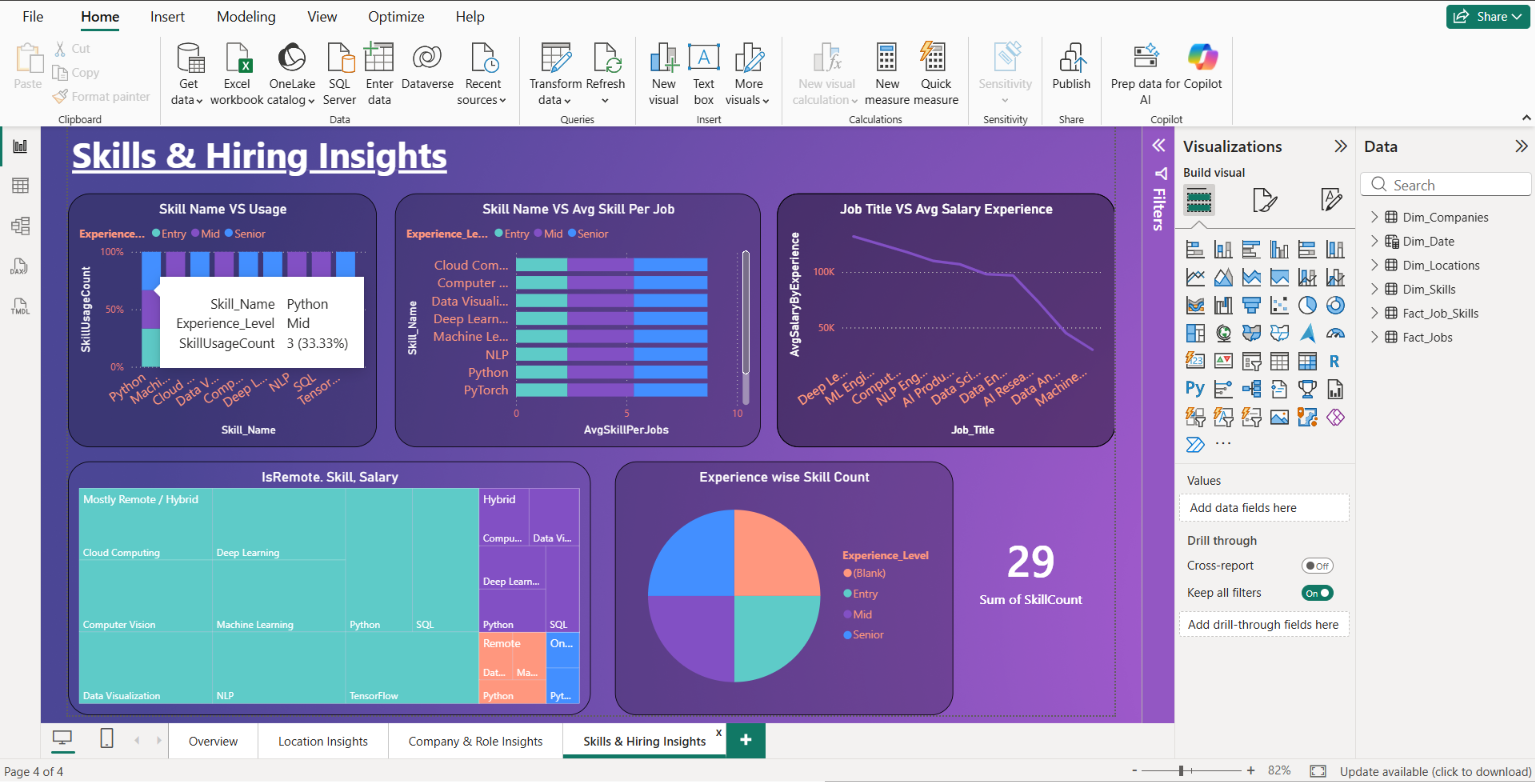

This screenshot's page, from the dashboard's own definition file:
{"tool":"powerbi","page":{"name":"Skills & Hiring Insights","canvas":[1280,720],"ordinal":3},"visuals":[{"type":"textbox","box":[0,0,555.2,75.8],"z":0},{"type":"cardVisual","title":"Total Jobs","fields":{"Data":["Sum(Fact_Jobs.SkillCount)"]},"box":[1090.8,476.9,189.5,127.2],"z":1000},{"type":"hundredPercentStackedColumnChart","title":"Skill Name VS Usage","fields":{"Category":["Dim_Skills.Skill_Name"],"Y":["Dim_Skills.SkillUsageCount"],"Series":["Fact_Jobs.Experience_Level"]},"box":[0,81.9,377.9,310.6],"z":2000},{"type":"treemap","title":"IsRemote. Skill, Salary","fields":{"Group":["Fact_Jobs.IsRemote"],"Details":["Dim_Skills.Skill_Name"],"Values":["Sum(Fact_Jobs.Salary_USD)"]},"box":[0,409.6,639.5,310.6],"z":3000},{"type":"lineChart","title":"Job Title VS Avg Salary Experience","fields":{"Y":["Fact_Jobs.AvgSalaryByExperience"],"Category":["Fact_Jobs.Job_Title"]},"box":[867,81.9,413.3,310.6],"z":4000},{"type":"barChart","title":"Skill Name VS Avg Skill Per Job","fields":{"Series":["Fact_Jobs.Experience_Level"],"Category":["Dim_Skills.Skill_Name"],"Y":["Fact_Job_Skills.AvgSkillPerJobs"]},"box":[399.9,81.9,447.6,310.6],"z":5000},{"type":"cardVisual","title":"Total Jobs","fields":{"Data":["Sum(Fact_Jobs.SkillCount)"]},"box":[1090.5,476.9,189.5,127.2],"z":6000},{"type":"lineChart","title":"Job Title VS Avg Salary Experience","fields":{"Y":["Fact_Jobs.AvgSalaryByExperience"],"Category":["Fact_Jobs.Job_Title"]},"box":[866.7,81.9,413.3,310.6],"z":7000},{"type":"pieChart","title":"Experience wise Skill Count","fields":{"Y":["CountNonNull(Dim_Skills.Skill_Name)"],"Category":["Fact_Jobs.Experience_Level"]},"box":[668.9,409.6,413.3,310.6],"z":8000}]}

Visuals, with their boxes on the page's 1280x720 design canvas (x1, y1, x2, y2). These are canvas units, not pixel positions in the 1535x782 screenshot, which may show the page scaled, cropped or inside an application window:
textbox: BBox(0, 0, 555, 76)
"Total Jobs" cardVisual: BBox(1091, 477, 1280, 604)
"Skill Name VS Usage" hundredPercentStackedColumnChart: BBox(0, 82, 378, 392)
"IsRemote. Skill, Salary" treemap: BBox(0, 410, 640, 720)
"Job Title VS Avg Salary Experience" lineChart: BBox(867, 82, 1280, 392)
"Skill Name VS Avg Skill Per Job" barChart: BBox(400, 82, 848, 392)
"Total Jobs" cardVisual: BBox(1090, 477, 1280, 604)
"Job Title VS Avg Salary Experience" lineChart: BBox(867, 82, 1280, 392)
"Experience wise Skill Count" pieChart: BBox(669, 410, 1082, 720)
